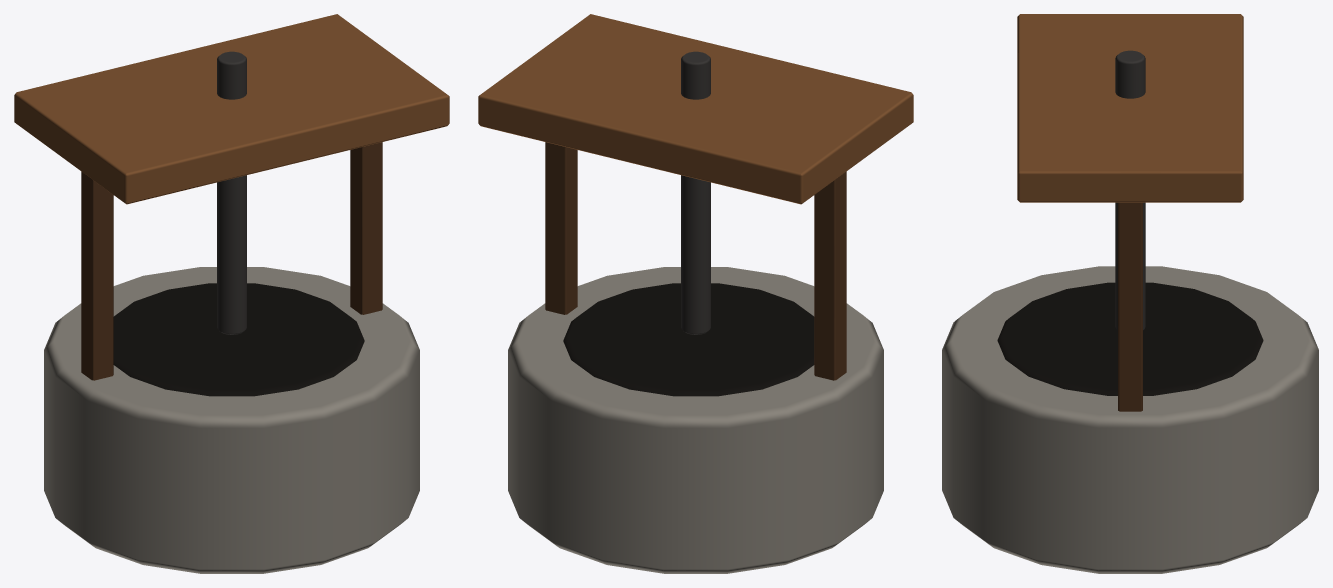
Rendered from well.50c78f60.glb.
The picture shows the model from 3 angles, left to right: view 1: azimuth 30°, elevation 25°; view 2: azimuth 150°, elevation 25°; view 3: azimuth 270°, elevation 25°; orthographic projection.
Visible parts, largest first — view 1: body; view 2: body; view 3: body.
Part boxes in pixels (x1=…): body: x1=14, y1=14, x2=449, y2=573; body: x1=478, y1=14, x2=913, y2=573; body: x1=942, y1=14, x2=1318, y2=573.
Size of the model in its own units: 1.5 by 1.95 by 1.5.
